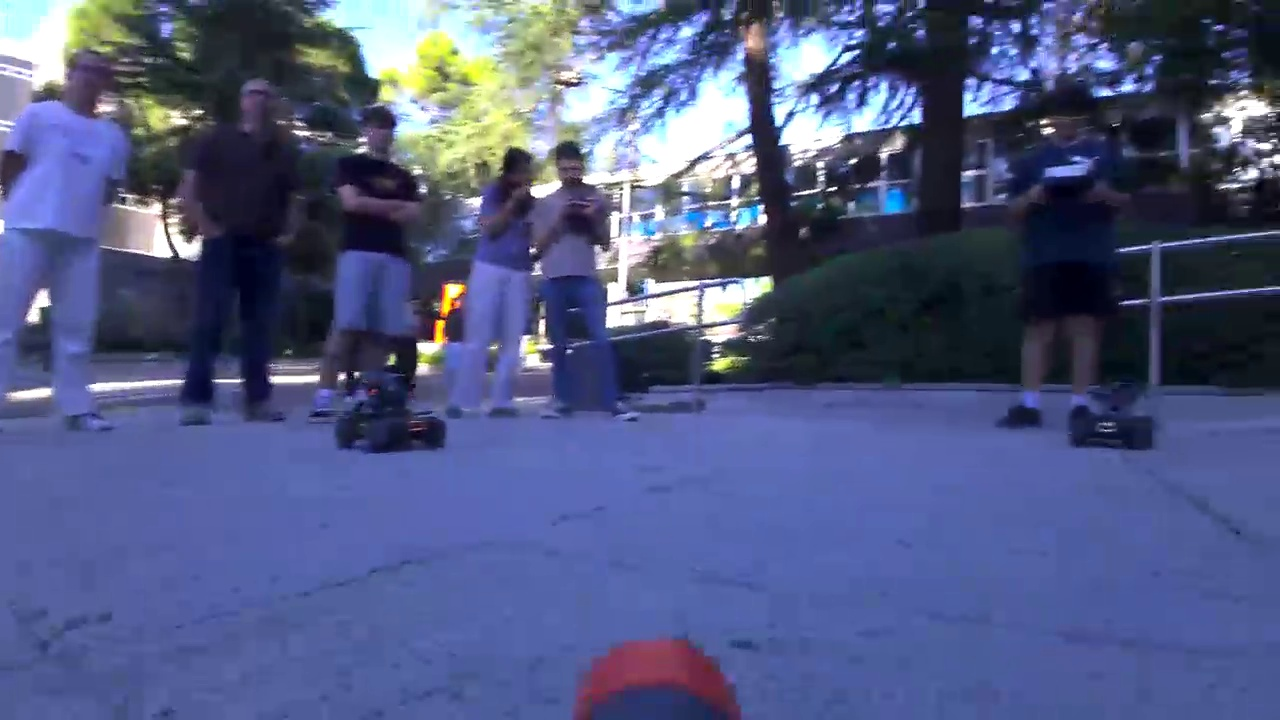robot: (332, 347, 453, 457), (1059, 369, 1162, 456)
